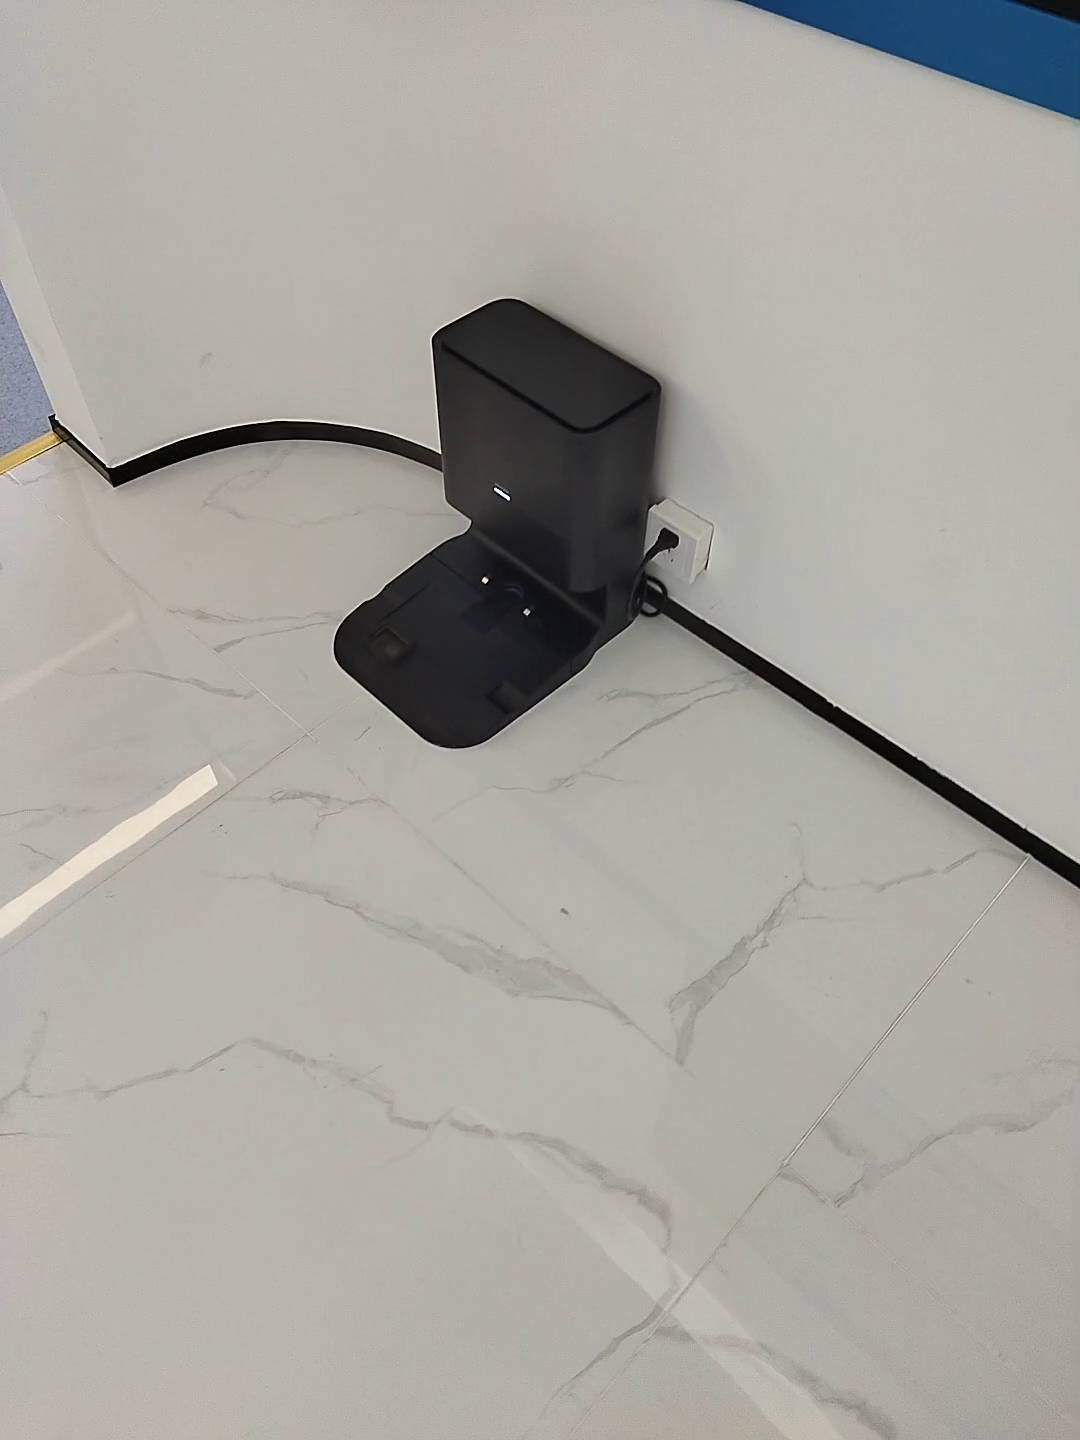dust collecting barrel: (329, 297, 664, 751)
